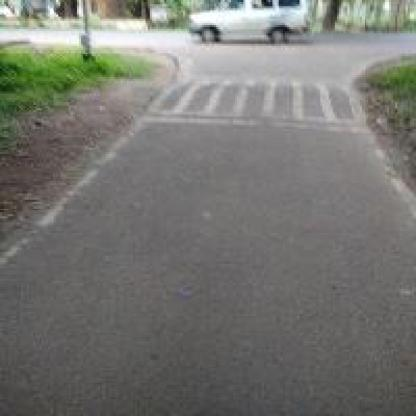Speed Bump: (138, 73, 370, 133)
